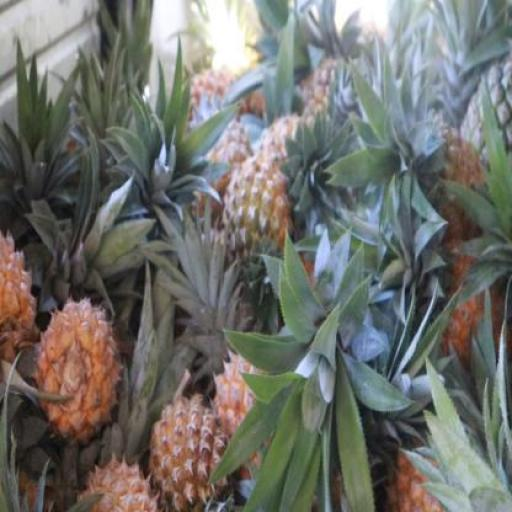Pineapple - v8 v1: (36, 302, 114, 436), (149, 399, 228, 512)
